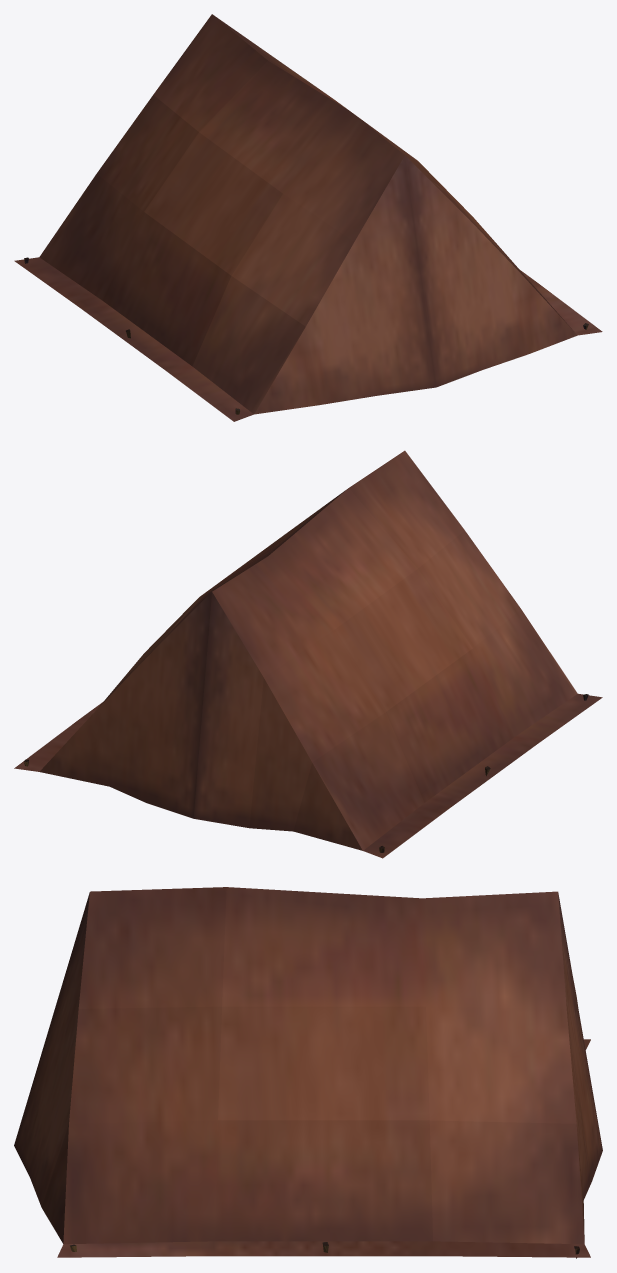
File: tent_Brown.fbx
The picture shows the model from 3 angles, top to bottom: view 1: azimuth 30°, elevation 25°; view 2: azimuth 150°, elevation 25°; view 3: azimuth 270°, elevation 25°; orthographic projection. The views are drawn at different scales.
Parts seen in each view (by area): view 1: Tent_Brown; view 2: Tent_Brown; view 3: Tent_Brown.
Boxes of the visible parts, bbox=[...] form: Tent_Brown: bbox=[14, 14, 602, 421]; Tent_Brown: bbox=[14, 450, 602, 858]; Tent_Brown: bbox=[14, 887, 602, 1258].
Bounding box in the file's own units: 6.36 × 7.24 × 3.61.
Materials: 2 (2 with a texture image).
